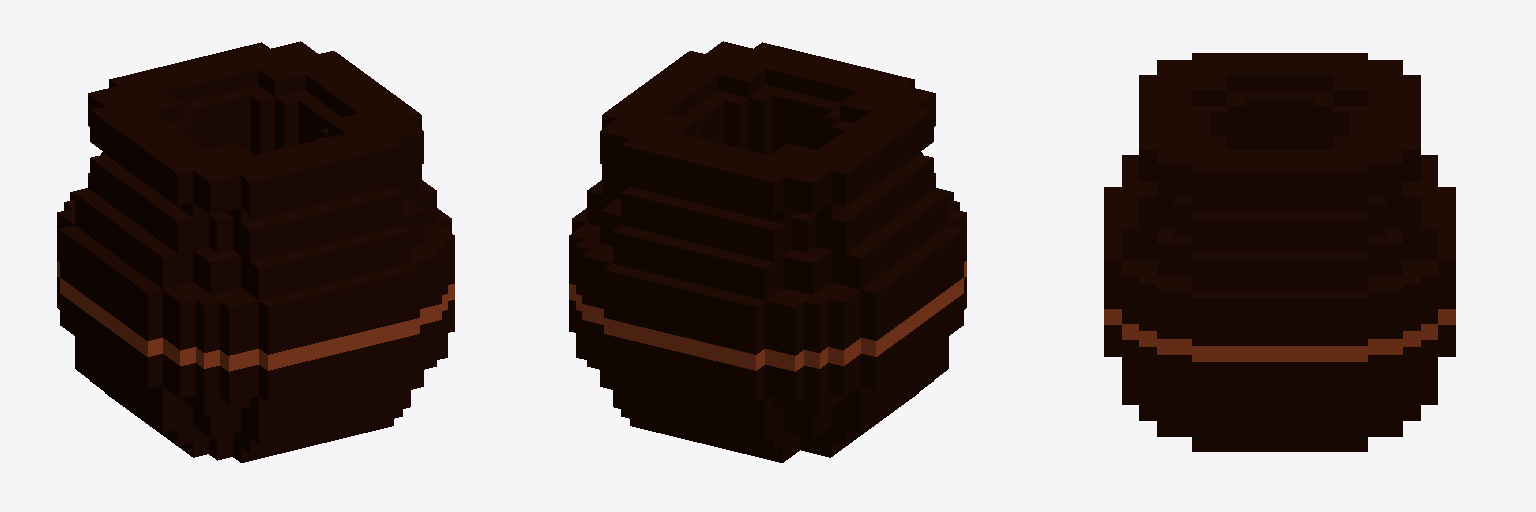
The model's file is pot.obj.
3 renders of one model, left to right at view 1: azimuth 30°, elevation 25°; view 2: azimuth 150°, elevation 25°; view 3: azimuth 270°, elevation 25°, orthographic.
Visible parts, largest first — view 1: Pot; view 2: Pot; view 3: Pot.
Boxes of the visible parts, <box> form: Pot: <box>57,41,454,462</box>; Pot: <box>569,41,966,462</box>; Pot: <box>1104,53,1455,451</box>.
Size of the model in its own units: 2 by 1.8 by 2.